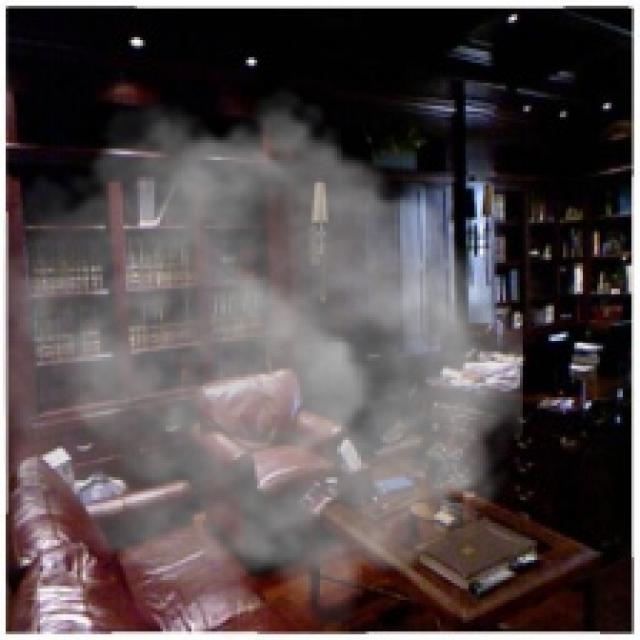smoke: (3, 86, 523, 631)
